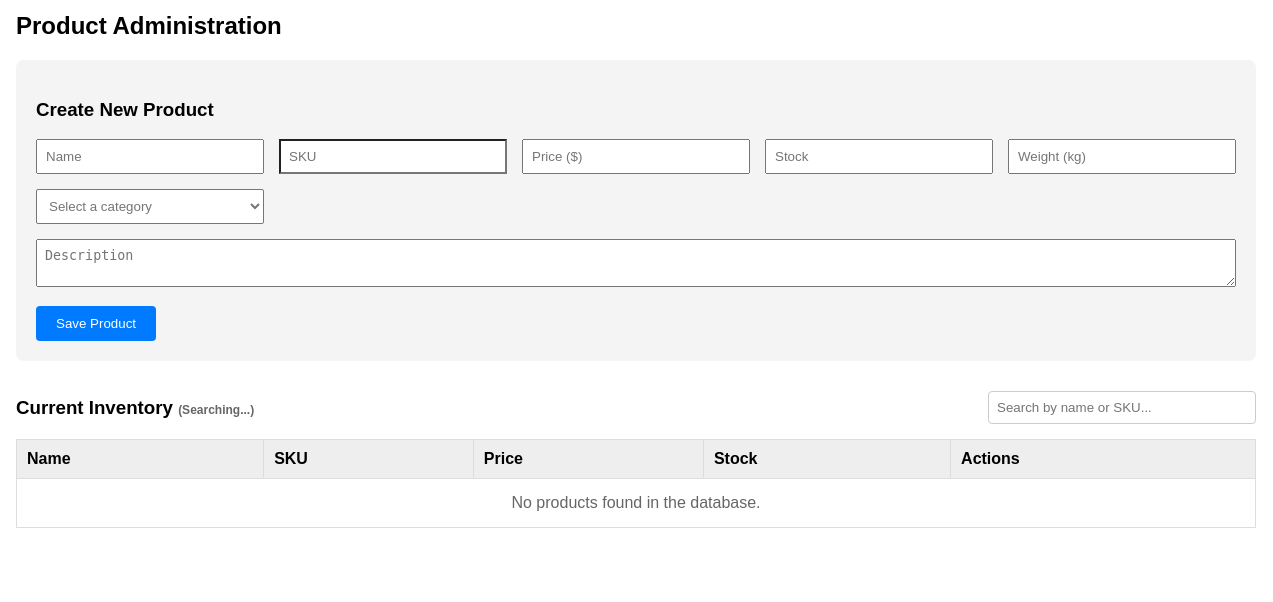
Test: ProductAdmin Component › submits form to create a new product successfully
Type "Keyboard" into the field with placeholder "Name" at (150, 157), box [36,139,264,174]
Type "SKU-KEYBOARD" into the field with placeholder "SKU" at (393, 157), box [279,139,507,174]
Type "45" into the number field with placeholder "Price ($)" at (636, 157), box [522,139,750,174]
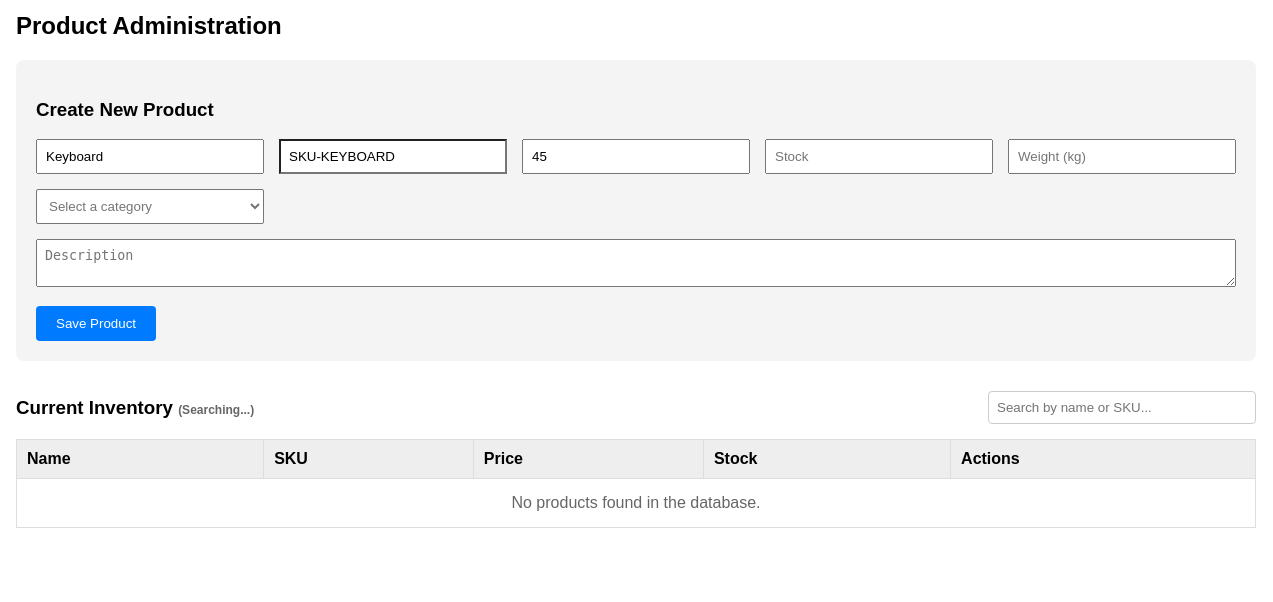
Type "30" into the number field with placeholder "Stock" at (879, 157), box [765,139,993,174]
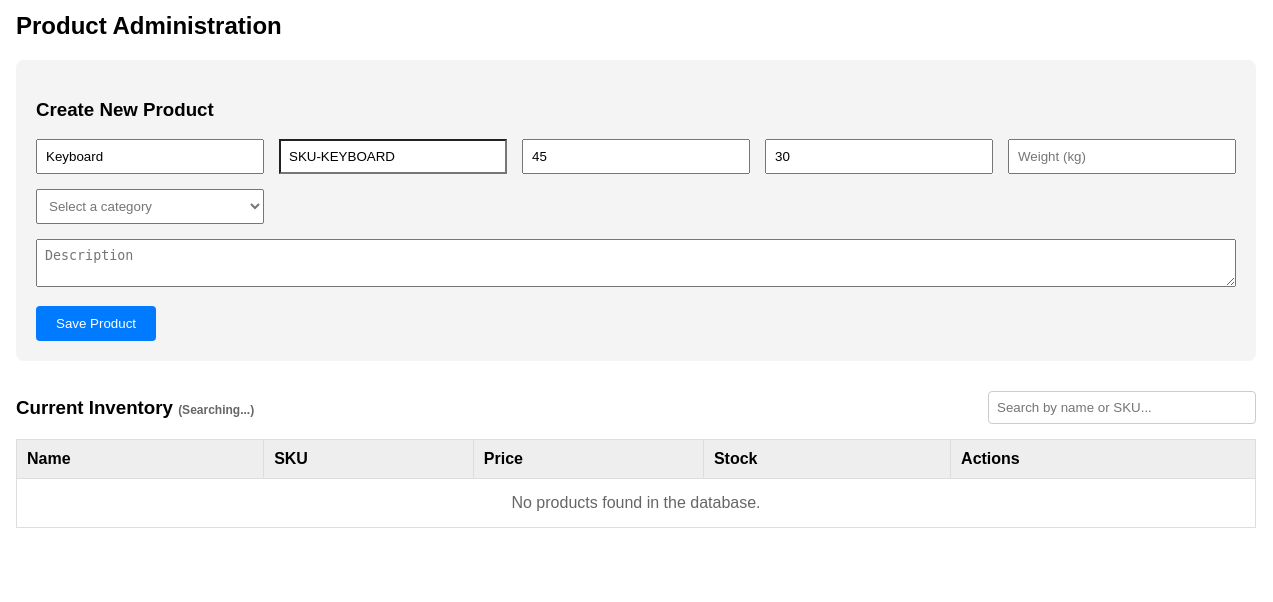
Type "0.8" into the number field with placeholder "Weight (kg)" at (1122, 157), box [1008,139,1236,174]
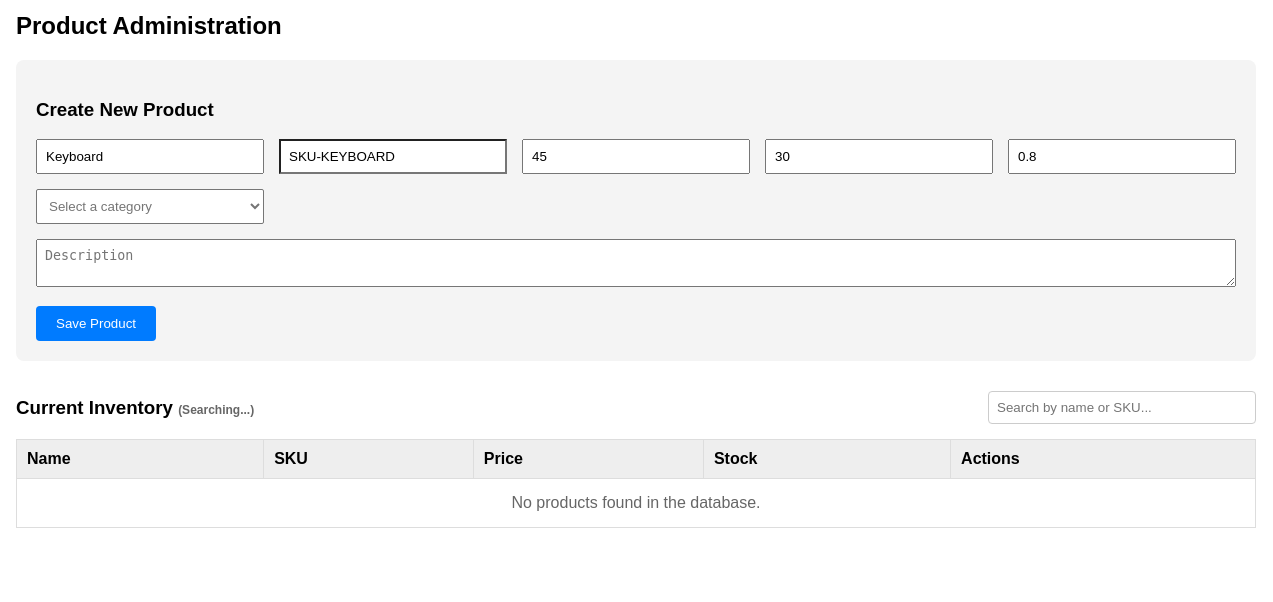
Select "Electronics" in the dropdown at (150, 207), box [36,189,264,224]
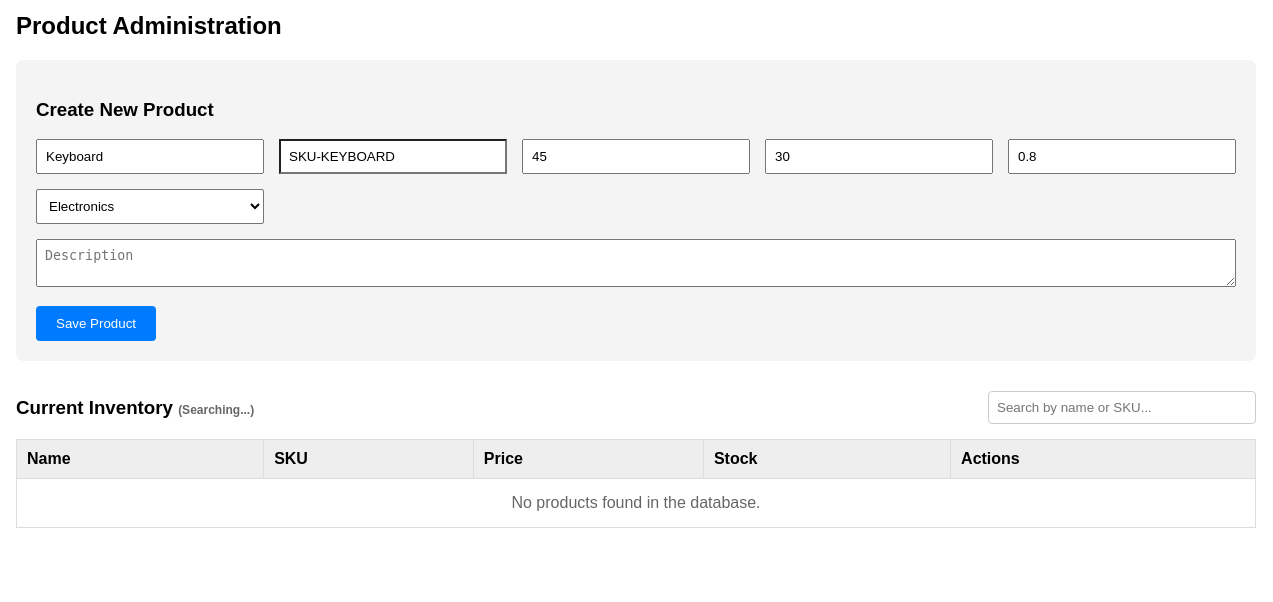
Type "RGB" into the text box with placeholder "Description" at (636, 263), box [36,239,1236,287]
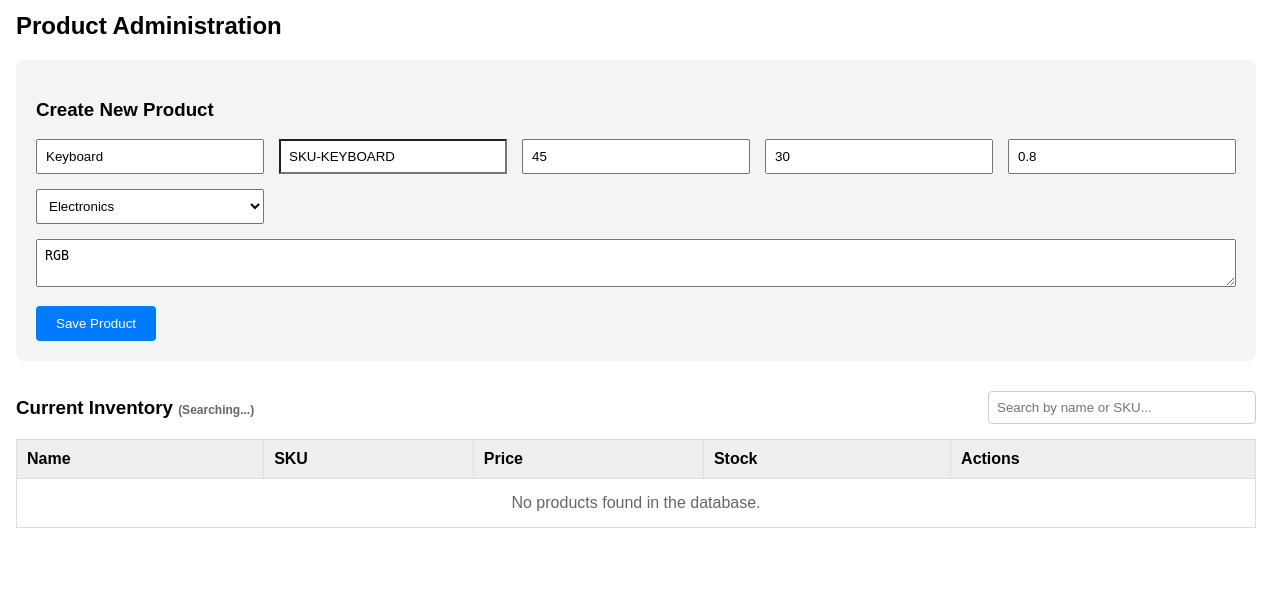
Click the button "Save Product" at (96, 324), box [36,306,156,341]
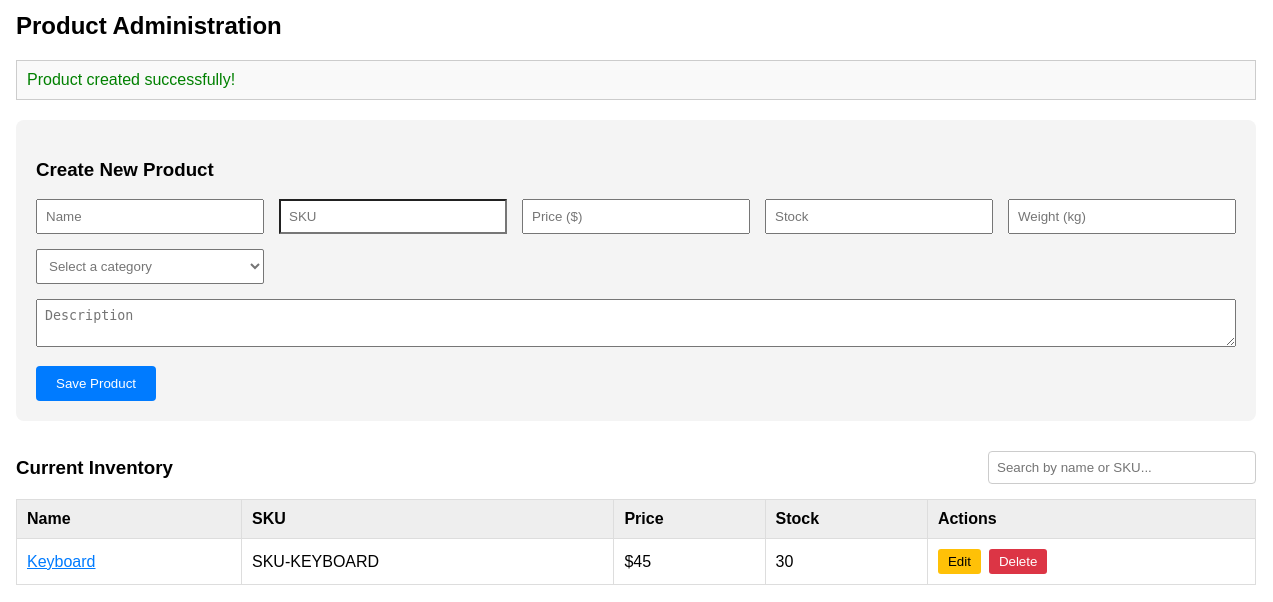
Result: the text "Product created successfully!" is shown at [16,60,1256,100]
Result: the field with placeholder "Name" is empty at [36,199,264,234]
